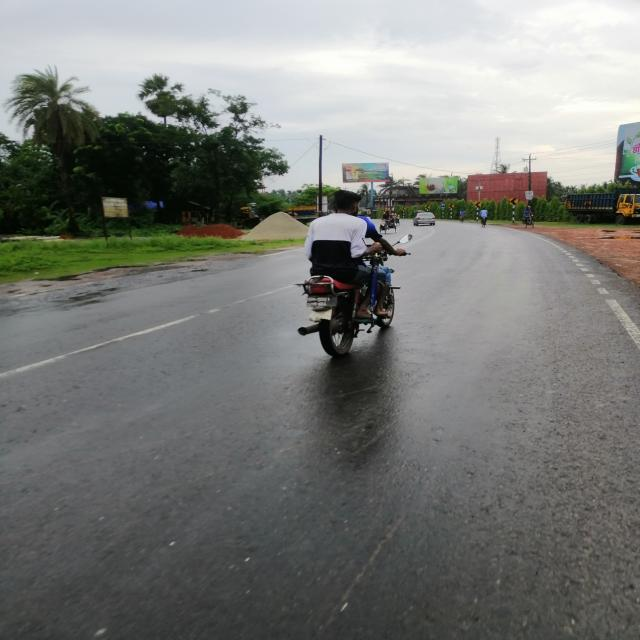Car: (415, 211, 437, 229)
Motorbike: (283, 232, 416, 364)
Truck: (563, 189, 640, 225)
